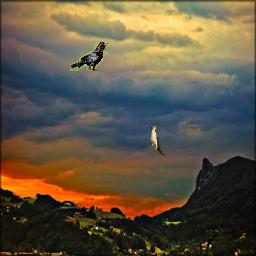Crow: (70, 41, 110, 71)
Cuckoo: (150, 125, 165, 158)
